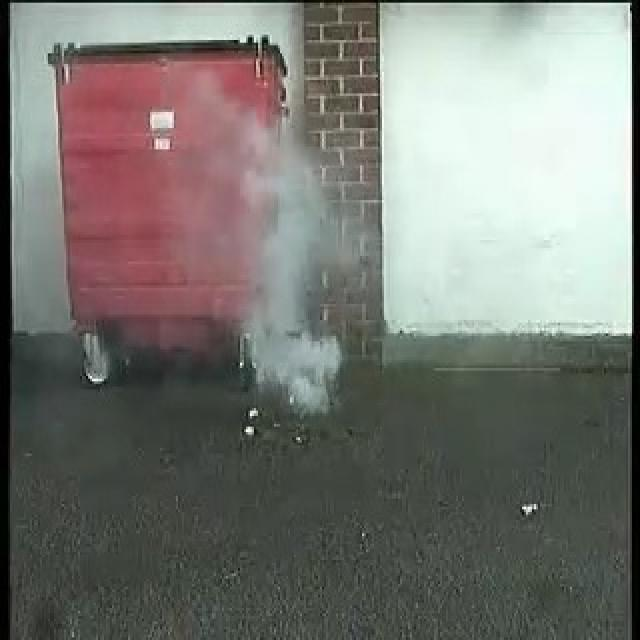smoke: (241, 126, 362, 416)
